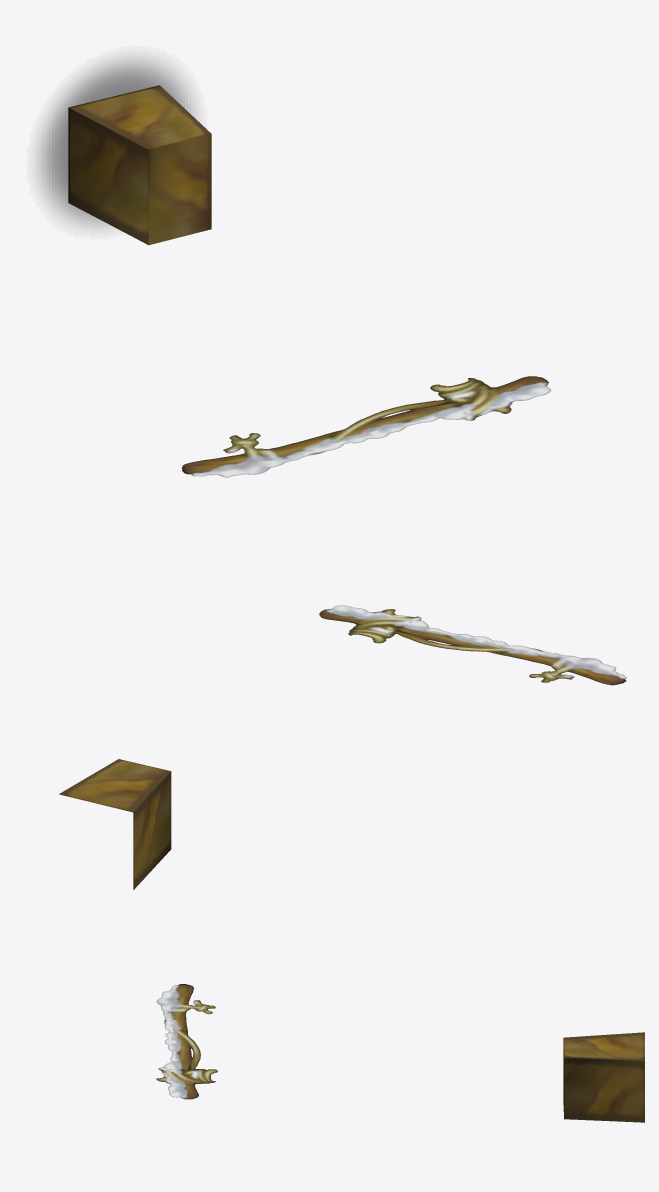
The model's file is streetlight_DD_right.glb.
3 renders of one model, top to bottom at view 1: azimuth 30°, elevation 25°; view 2: azimuth 150°, elevation 25°; view 3: azimuth 270°, elevation 25°, orthographic. The views are drawn at different scales.
Visible parts, largest first — view 1: base_right, stick_right, dropshadow_right; view 2: base_right, stick_right; view 3: base_right, stick_right.
Boxes of the visible parts, x1,y1,x2,y2 form: base_right: (68, 85, 211, 245); stick_right: (182, 376, 551, 477); dropshadow_right: (39, 58, 193, 227); base_right: (59, 759, 171, 889); stick_right: (319, 605, 627, 685); base_right: (563, 1032, 644, 1122); stick_right: (156, 984, 217, 1099).
Bounding box in the file's own units: 4.65 × 2.4 × 10.04.
Materials: 6 (6 with a texture image).
